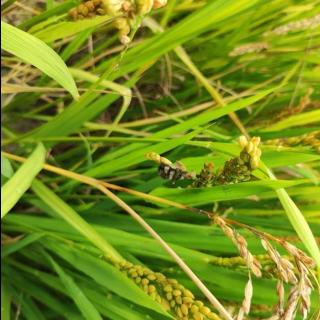Gosong-Palsu: (156, 162, 187, 182)
